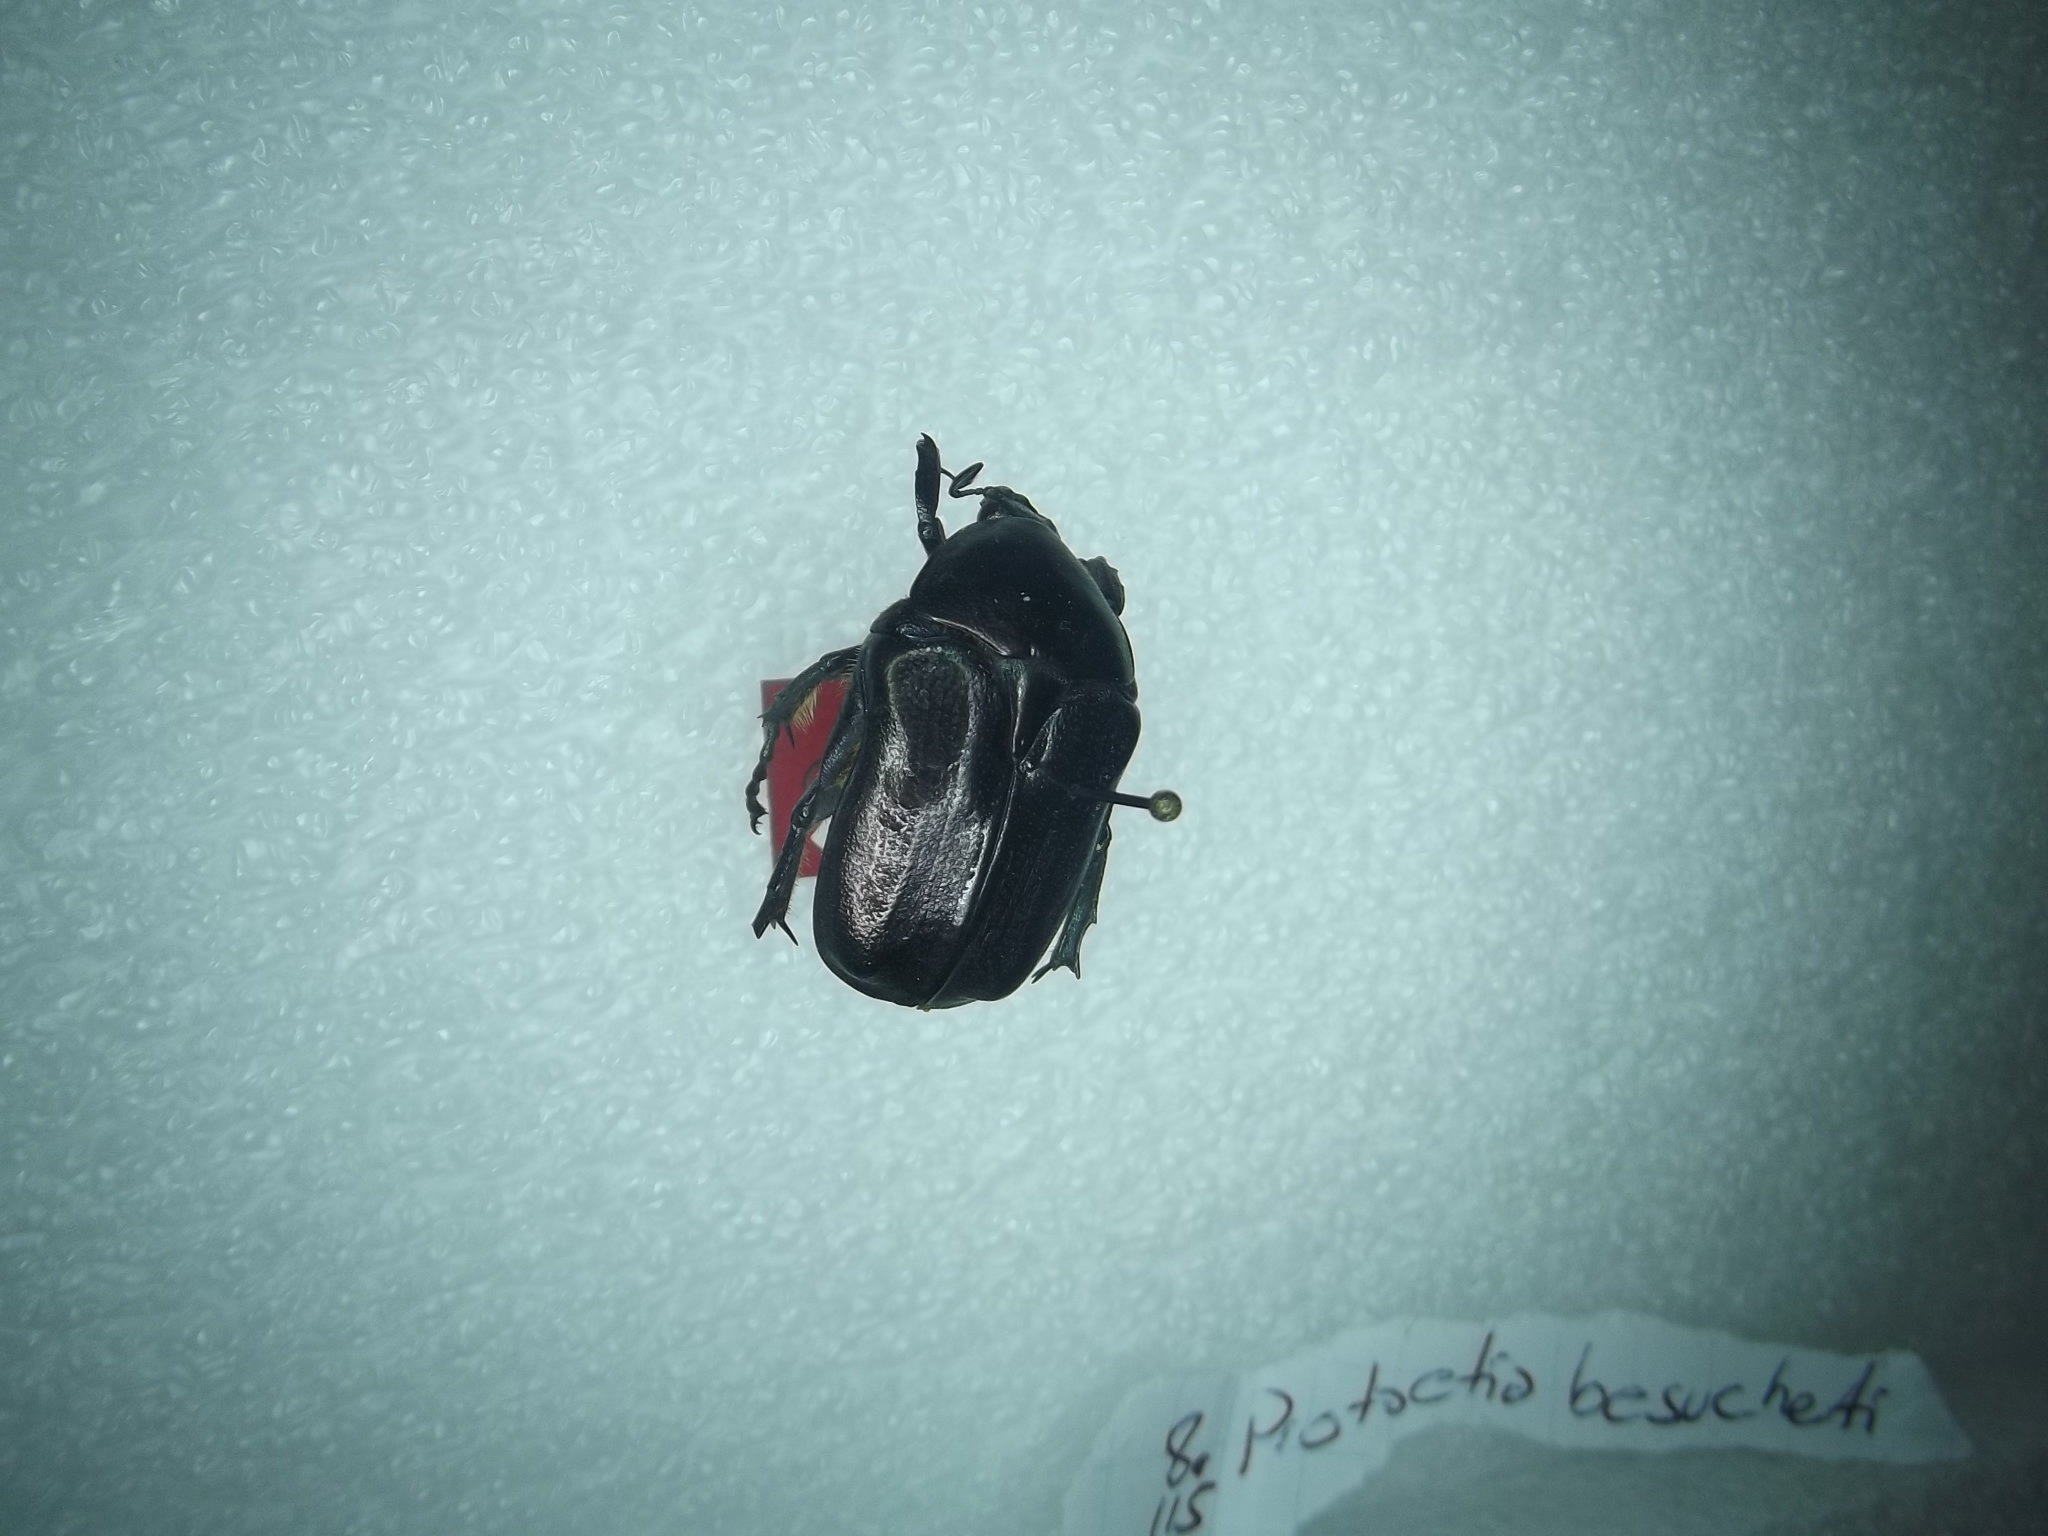Protaetia_besucheti: (727, 402, 1174, 1025)
